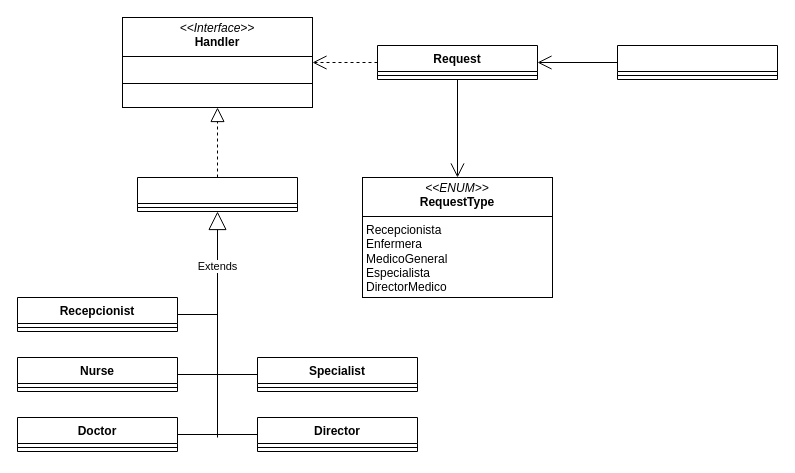
Some shapes in this 795 by 473 pixel diagram are drawn without their labels. Each missing label, with the centre of its shape:
"Main" belongs at (x=697, y=62).
"SupportHandler" belongs at (x=217, y=194).
